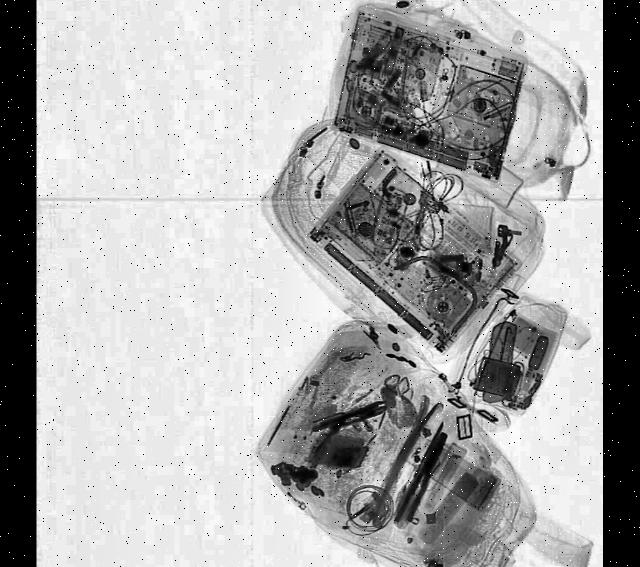Pliers: (392, 428, 452, 532)
